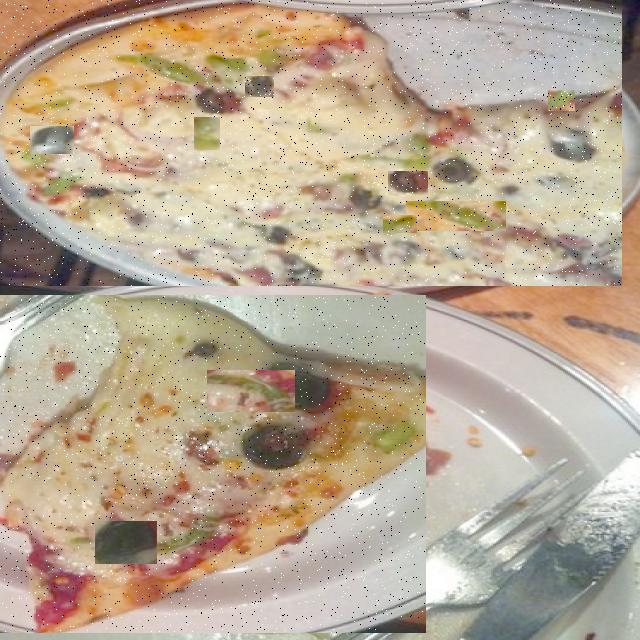Green Pepper: (207, 370, 295, 412), (406, 201, 506, 231), (13, 479, 54, 504), (194, 117, 220, 150), (336, 213, 366, 236), (383, 215, 417, 233), (548, 90, 575, 111), (577, 122, 596, 137)
Olives: (95, 522, 157, 566), (122, 459, 179, 503), (30, 126, 74, 154), (388, 171, 428, 195), (158, 103, 188, 126), (245, 76, 274, 97), (336, 43, 354, 59), (514, 88, 540, 98)
Pizza: (0, 0, 622, 286), (0, 296, 426, 633)
